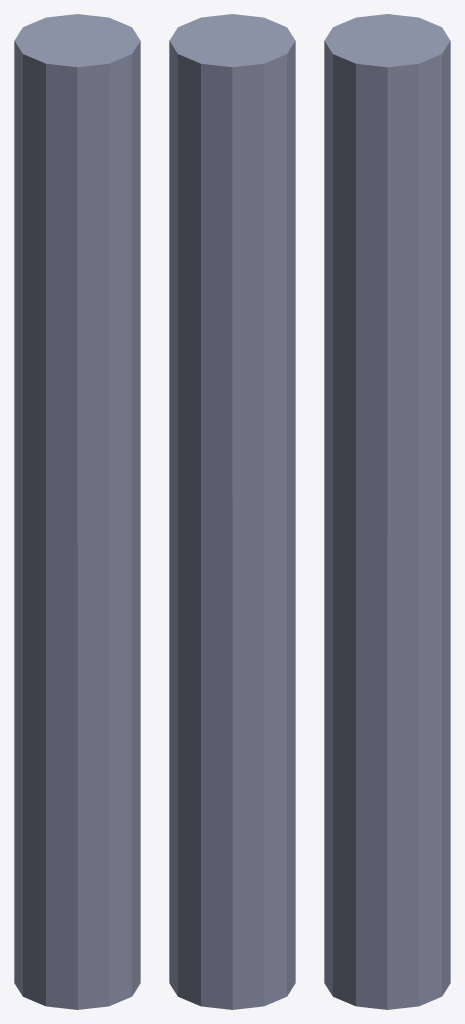
The model's file is Colona.fbx.
3 renders of one model, left to right at view 1: azimuth 90°, elevation 25°; view 2: azimuth 150°, elevation 25°; view 3: azimuth 270°, elevation 25°, orthographic.
Visible parts, largest first — view 1: coluna; view 2: coluna; view 3: coluna.
Part boxes in pixels (x1,y1,x2,y2): coluna: (14,14,140,1009); coluna: (169,14,295,1009); coluna: (324,14,450,1009).
Size of the model in its own units: 68.34 by 564 by 68.34.
